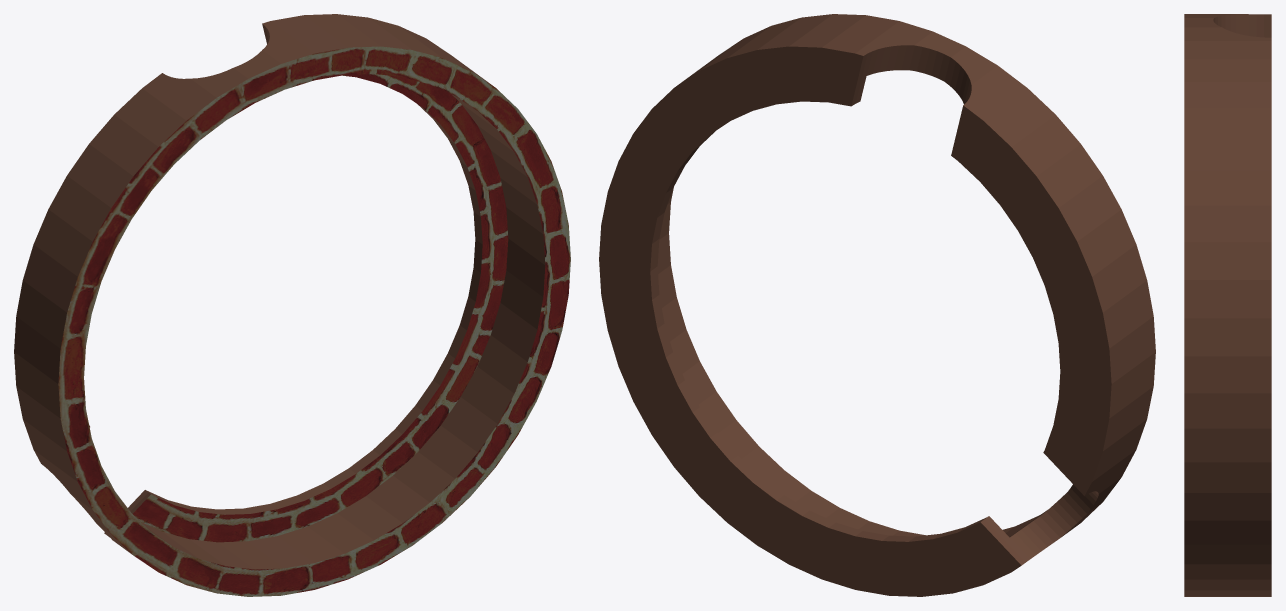
Rendered from pool_020.obj.
3 renders of one model, left to right at view 1: azimuth 30°, elevation 25°; view 2: azimuth 150°, elevation 25°; view 3: azimuth 270°, elevation 25°, orthographic.
Bounding box in the file's own units: 20 × 20 × 3.
